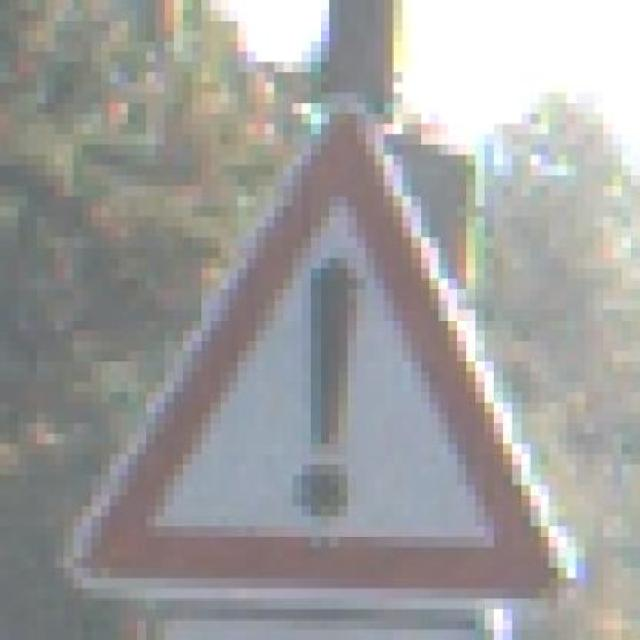Attention Please-: (46, 70, 586, 628)
